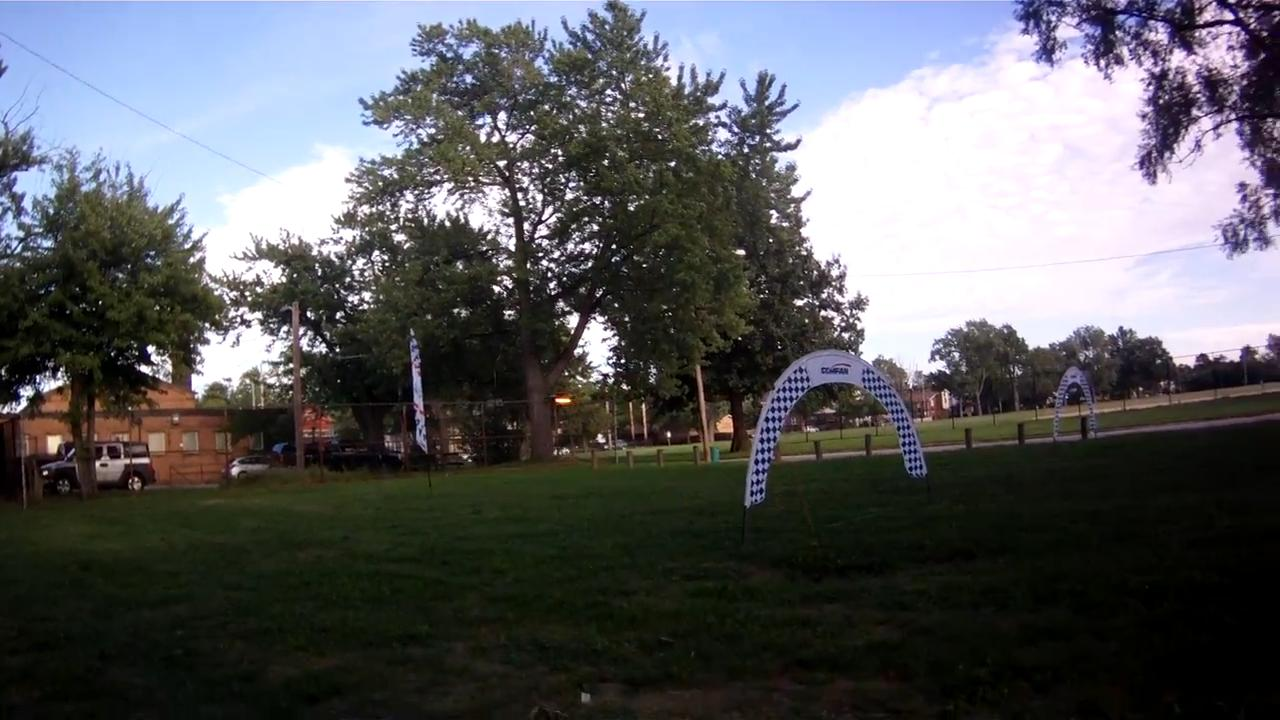gate: (736, 347, 927, 507)
